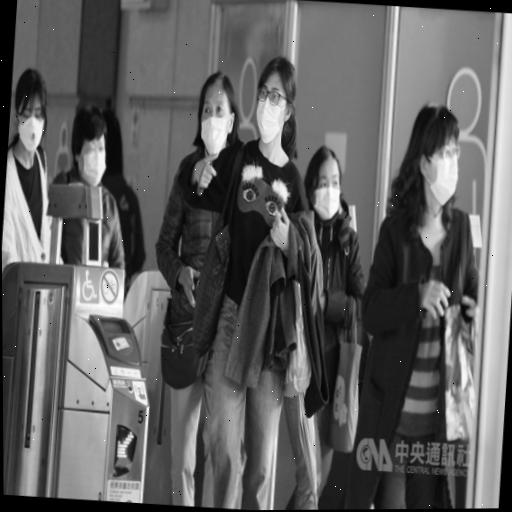mask: (404, 94, 468, 216), (248, 46, 300, 150), (64, 93, 114, 191), (190, 64, 241, 159), (301, 140, 348, 228), (9, 65, 53, 157)
